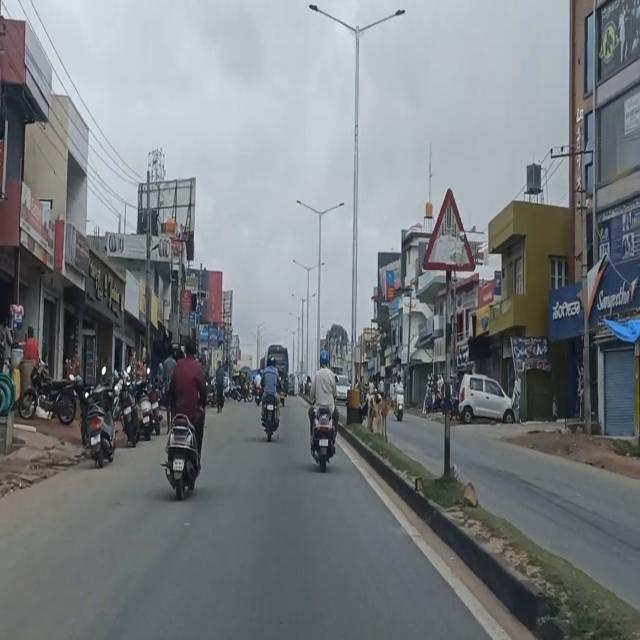bien_cam: (423, 180, 476, 283)
